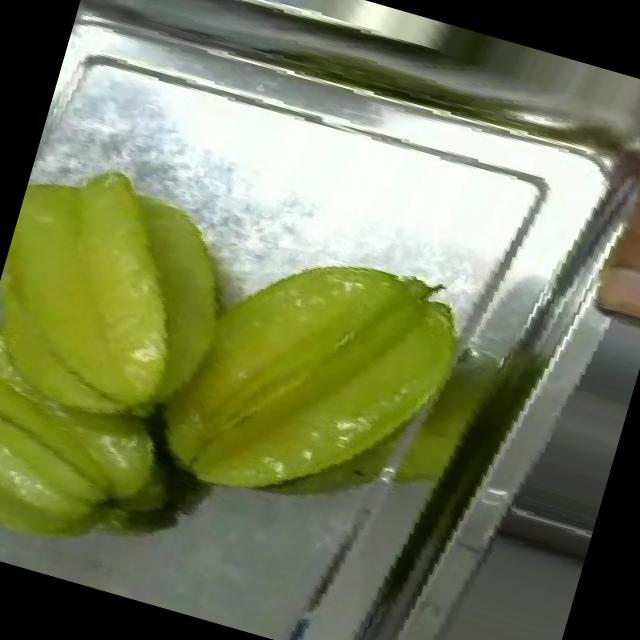fruit: (105, 190, 498, 590), (0, 134, 259, 602)
